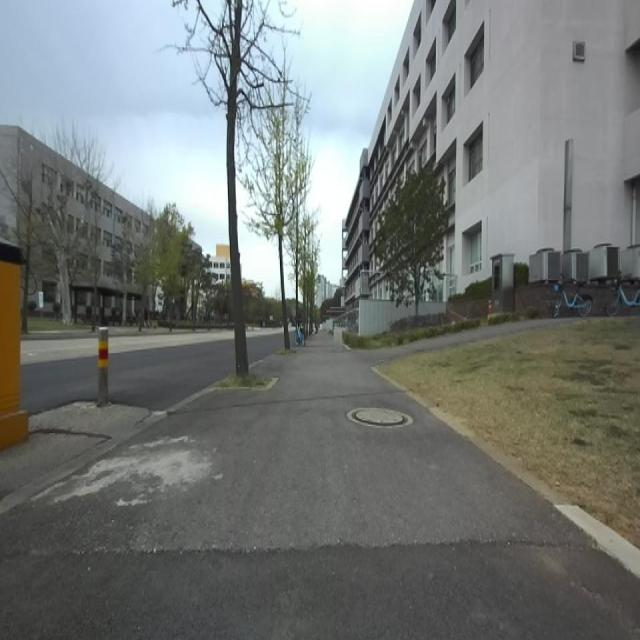sidewalk: (0, 337, 640, 638)
